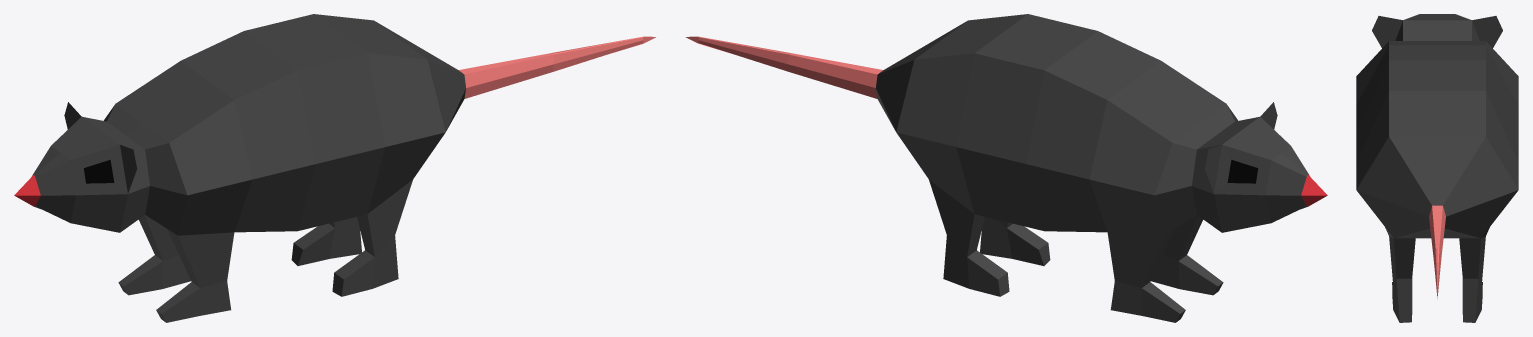
The model's file is rat.fbx.
3 renders of one model, left to right at view 1: azimuth 30°, elevation 25°; view 2: azimuth 150°, elevation 25°; view 3: azimuth 270°, elevation 25°, orthographic. The views are drawn at different scales.
Parts seen in each view (by area): view 1: nose; view 2: nose; view 3: nose.
Boxes of the visible parts, <box> form: nose: <box>14,14,655,322</box>; nose: <box>686,14,1327,322</box>; nose: <box>1356,14,1518,322</box>.
Size of the model in its own units: 1151 by 409 by 279.
